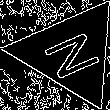N_NE: (36, 24, 105, 82)
